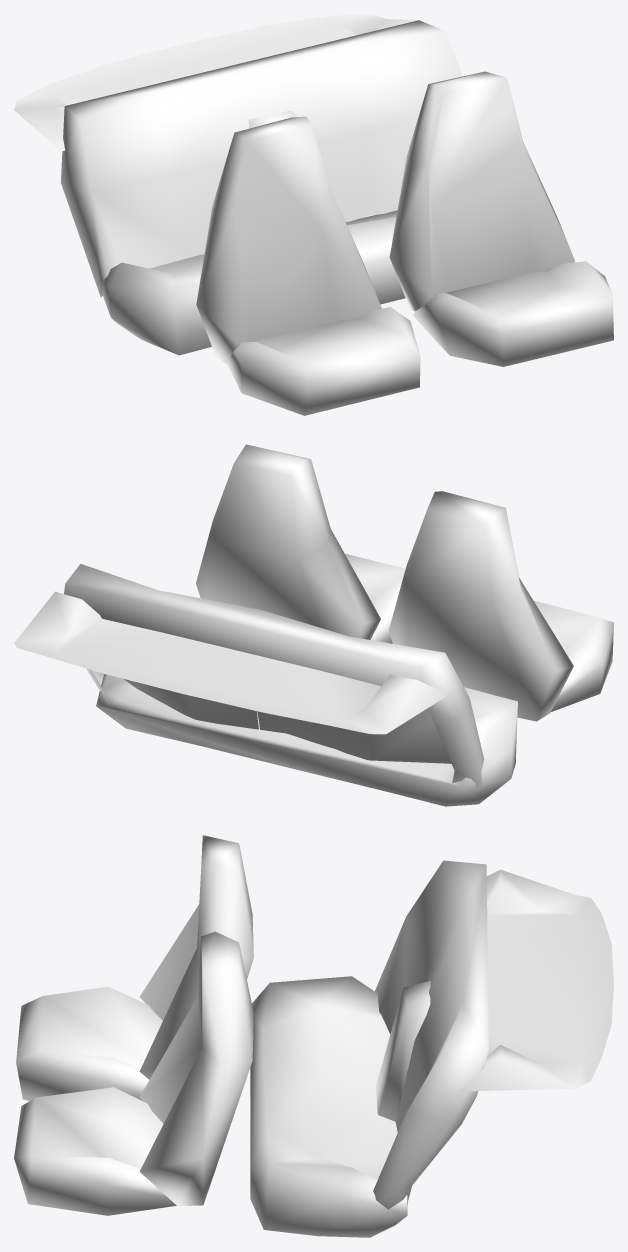
The picture shows the model from 3 angles, top to bottom: view 1: azimuth 30°, elevation 25°; view 2: azimuth 150°, elevation 25°; view 3: azimuth 270°, elevation 25°; orthographic projection. The views are drawn at different scales.
Size of the model in its own units: 1.46 by 0.8012 by 1.77.
1 material, 1 textured.
